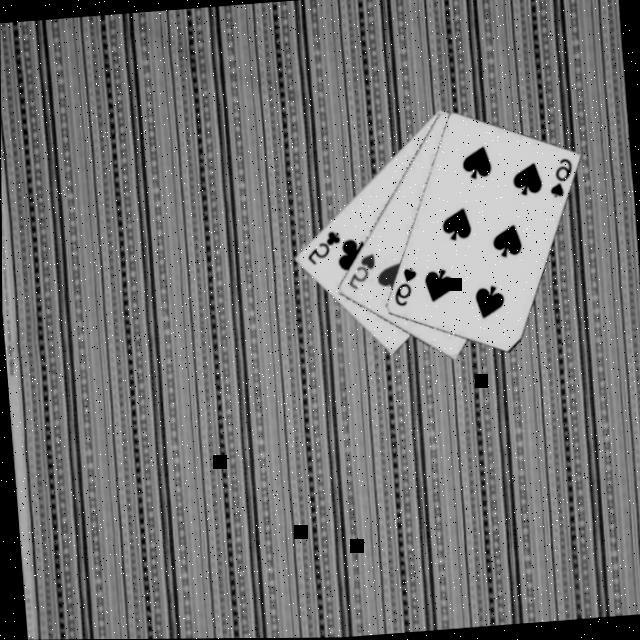5C: (298, 228, 342, 269)
5H: (339, 252, 376, 294)
6S: (386, 265, 418, 311), (542, 156, 574, 202)
